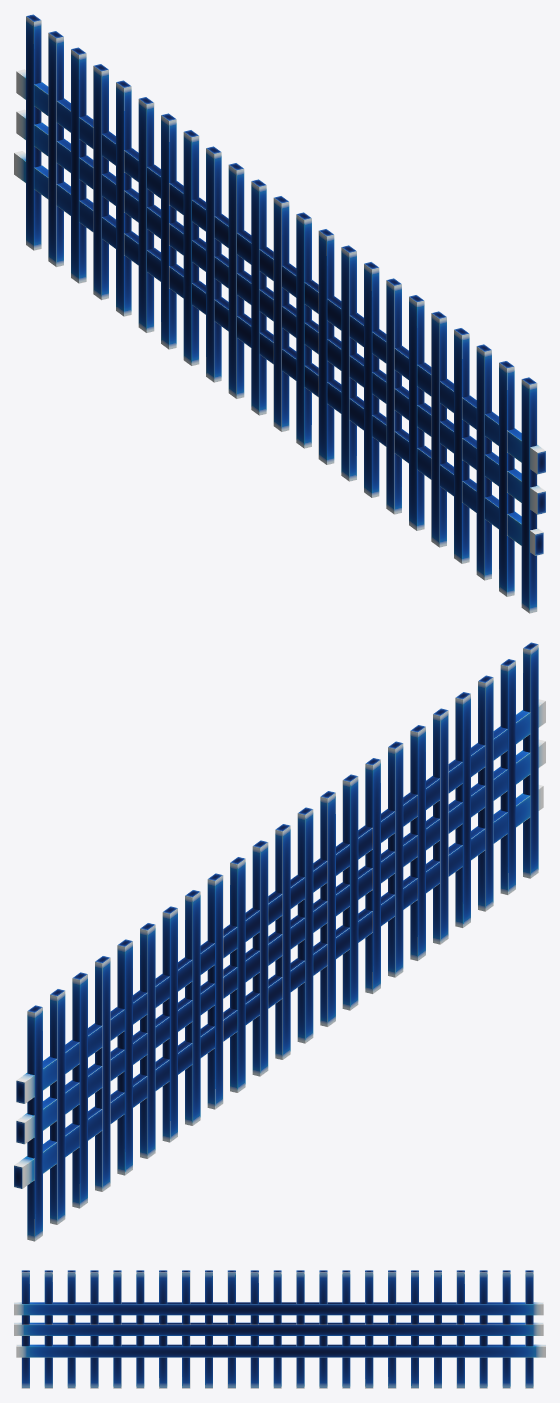
Rendered from syj_d.gltf.
3 views of the same model, one above another, from view 1: azimuth 30°, elevation 25°; view 2: azimuth 150°, elevation 25°; view 3: azimuth 270°, elevation 25° (orthographic). The views are drawn at different scales.
Parts seen in each view (by area): view 1: d; view 2: d; view 3: d.
Part boxes in pixels (<box>): d: <box>14,14,545,613</box>; d: <box>14,642,545,1241</box>; d: <box>14,1270,545,1388</box>.
Bounding box in the file's own units: 0.00775 × 0.1947 × 0.8081.
Materials: 1 (1 with a texture image).
